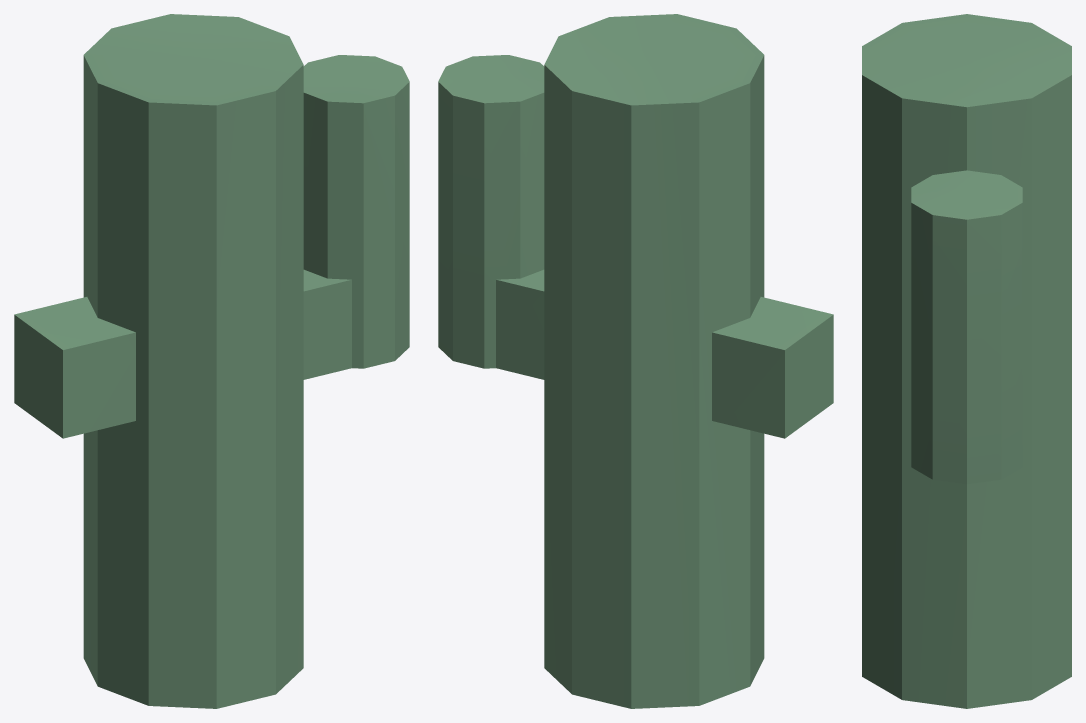
The model's file is cactus-03.glb.
The picture shows the model from 3 angles, left to right: view 1: azimuth 30°, elevation 25°; view 2: azimuth 150°, elevation 25°; view 3: azimuth 270°, elevation 25°; orthographic projection.
Parts seen in each view (by area): view 1: world; view 2: world; view 3: world.
Part boxes in pixels (box(x1,y1,x2,y2)): world: box(14, 14, 409, 708); world: box(438, 14, 833, 708); world: box(862, 14, 1071, 708).
Size of the model in its own units: 0.645 by 1.02 by 0.3234.
